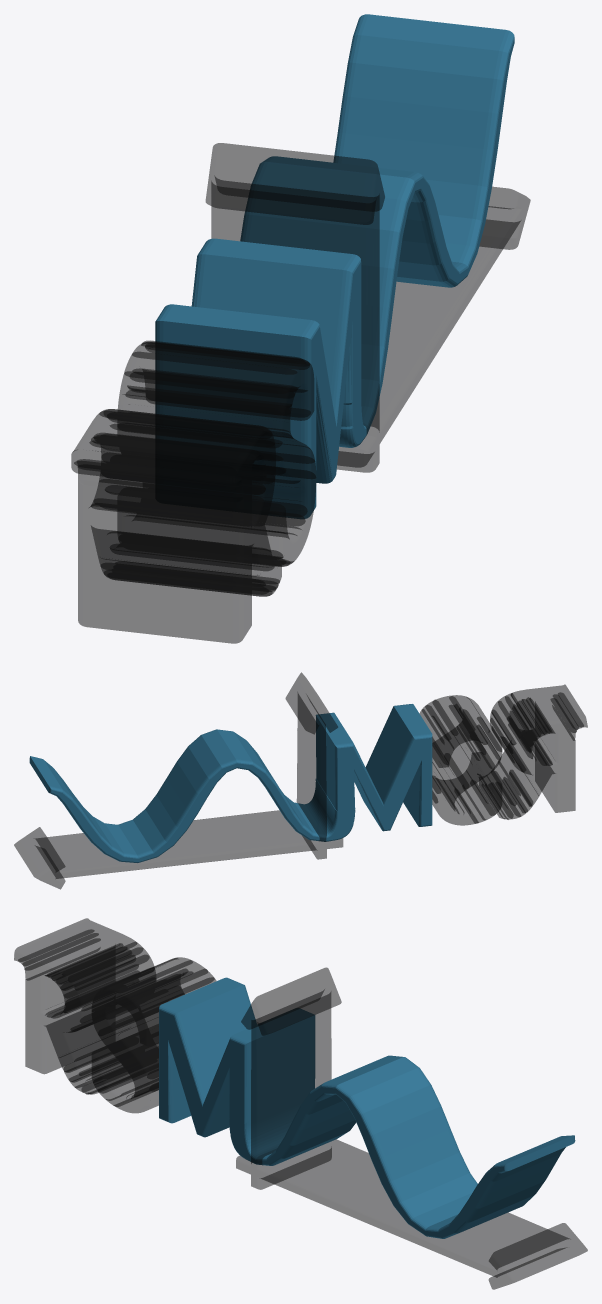
File: rsm.glb
The picture shows the model from 3 angles, top to bottom: view 1: azimuth 30°, elevation 25°; view 2: azimuth 150°, elevation 25°; view 3: azimuth 270°, elevation 25°; orthographic projection. The views are drawn at different scales.
Bounding box in the file's own units: 81.63 × 30.3 × 81.63.
